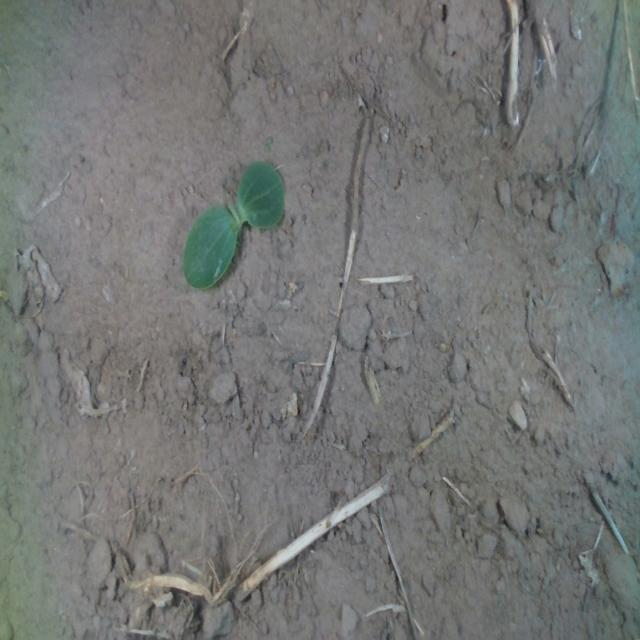crop: (180, 156, 286, 292)
